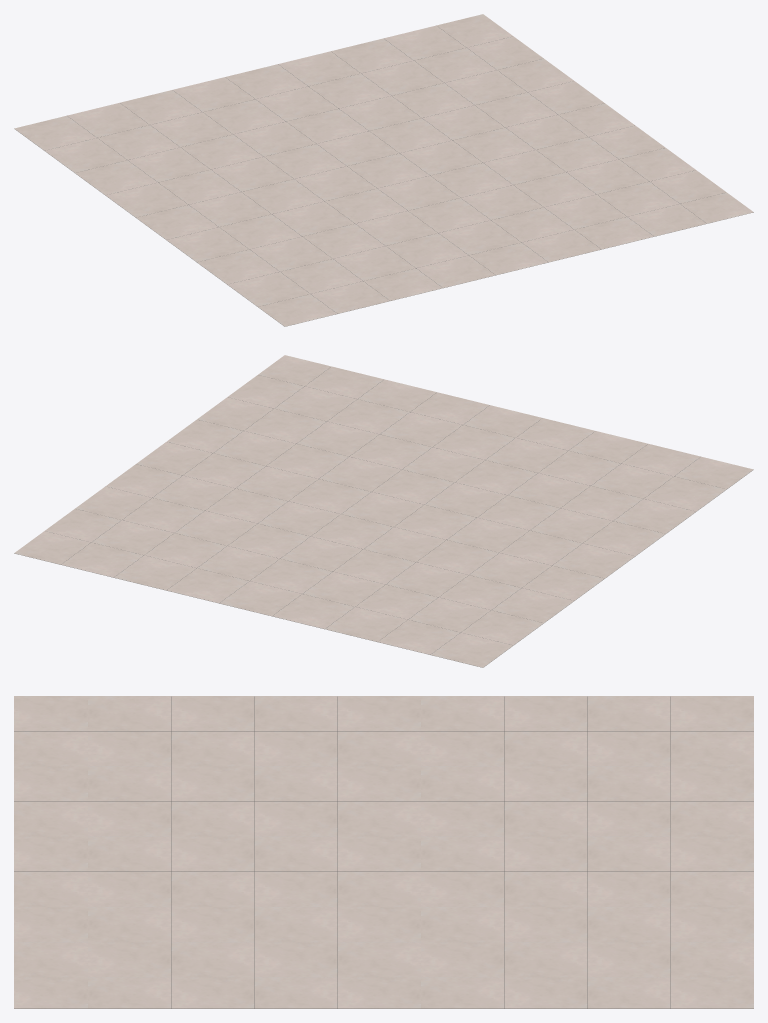
Rendered from cuba-90x90.glb.
3 views of the same model, one above another, from view 1: azimuth 30°, elevation 25°; view 2: azimuth 150°, elevation 25°; view 3: azimuth 270°, elevation 25° (orthographic). The views are drawn at different scales.
Parts seen in each view (by area): view 1: Cuba; view 2: Cuba; view 3: Cuba.
Boxes of the visible parts, <box> form: Cuba: <box>14,14,753,326</box>; Cuba: <box>14,355,753,667</box>; Cuba: <box>14,696,753,1008</box>.
Size of the model in its own units: 8 by 0.003 by 8.
2 materials, 1 textured.
